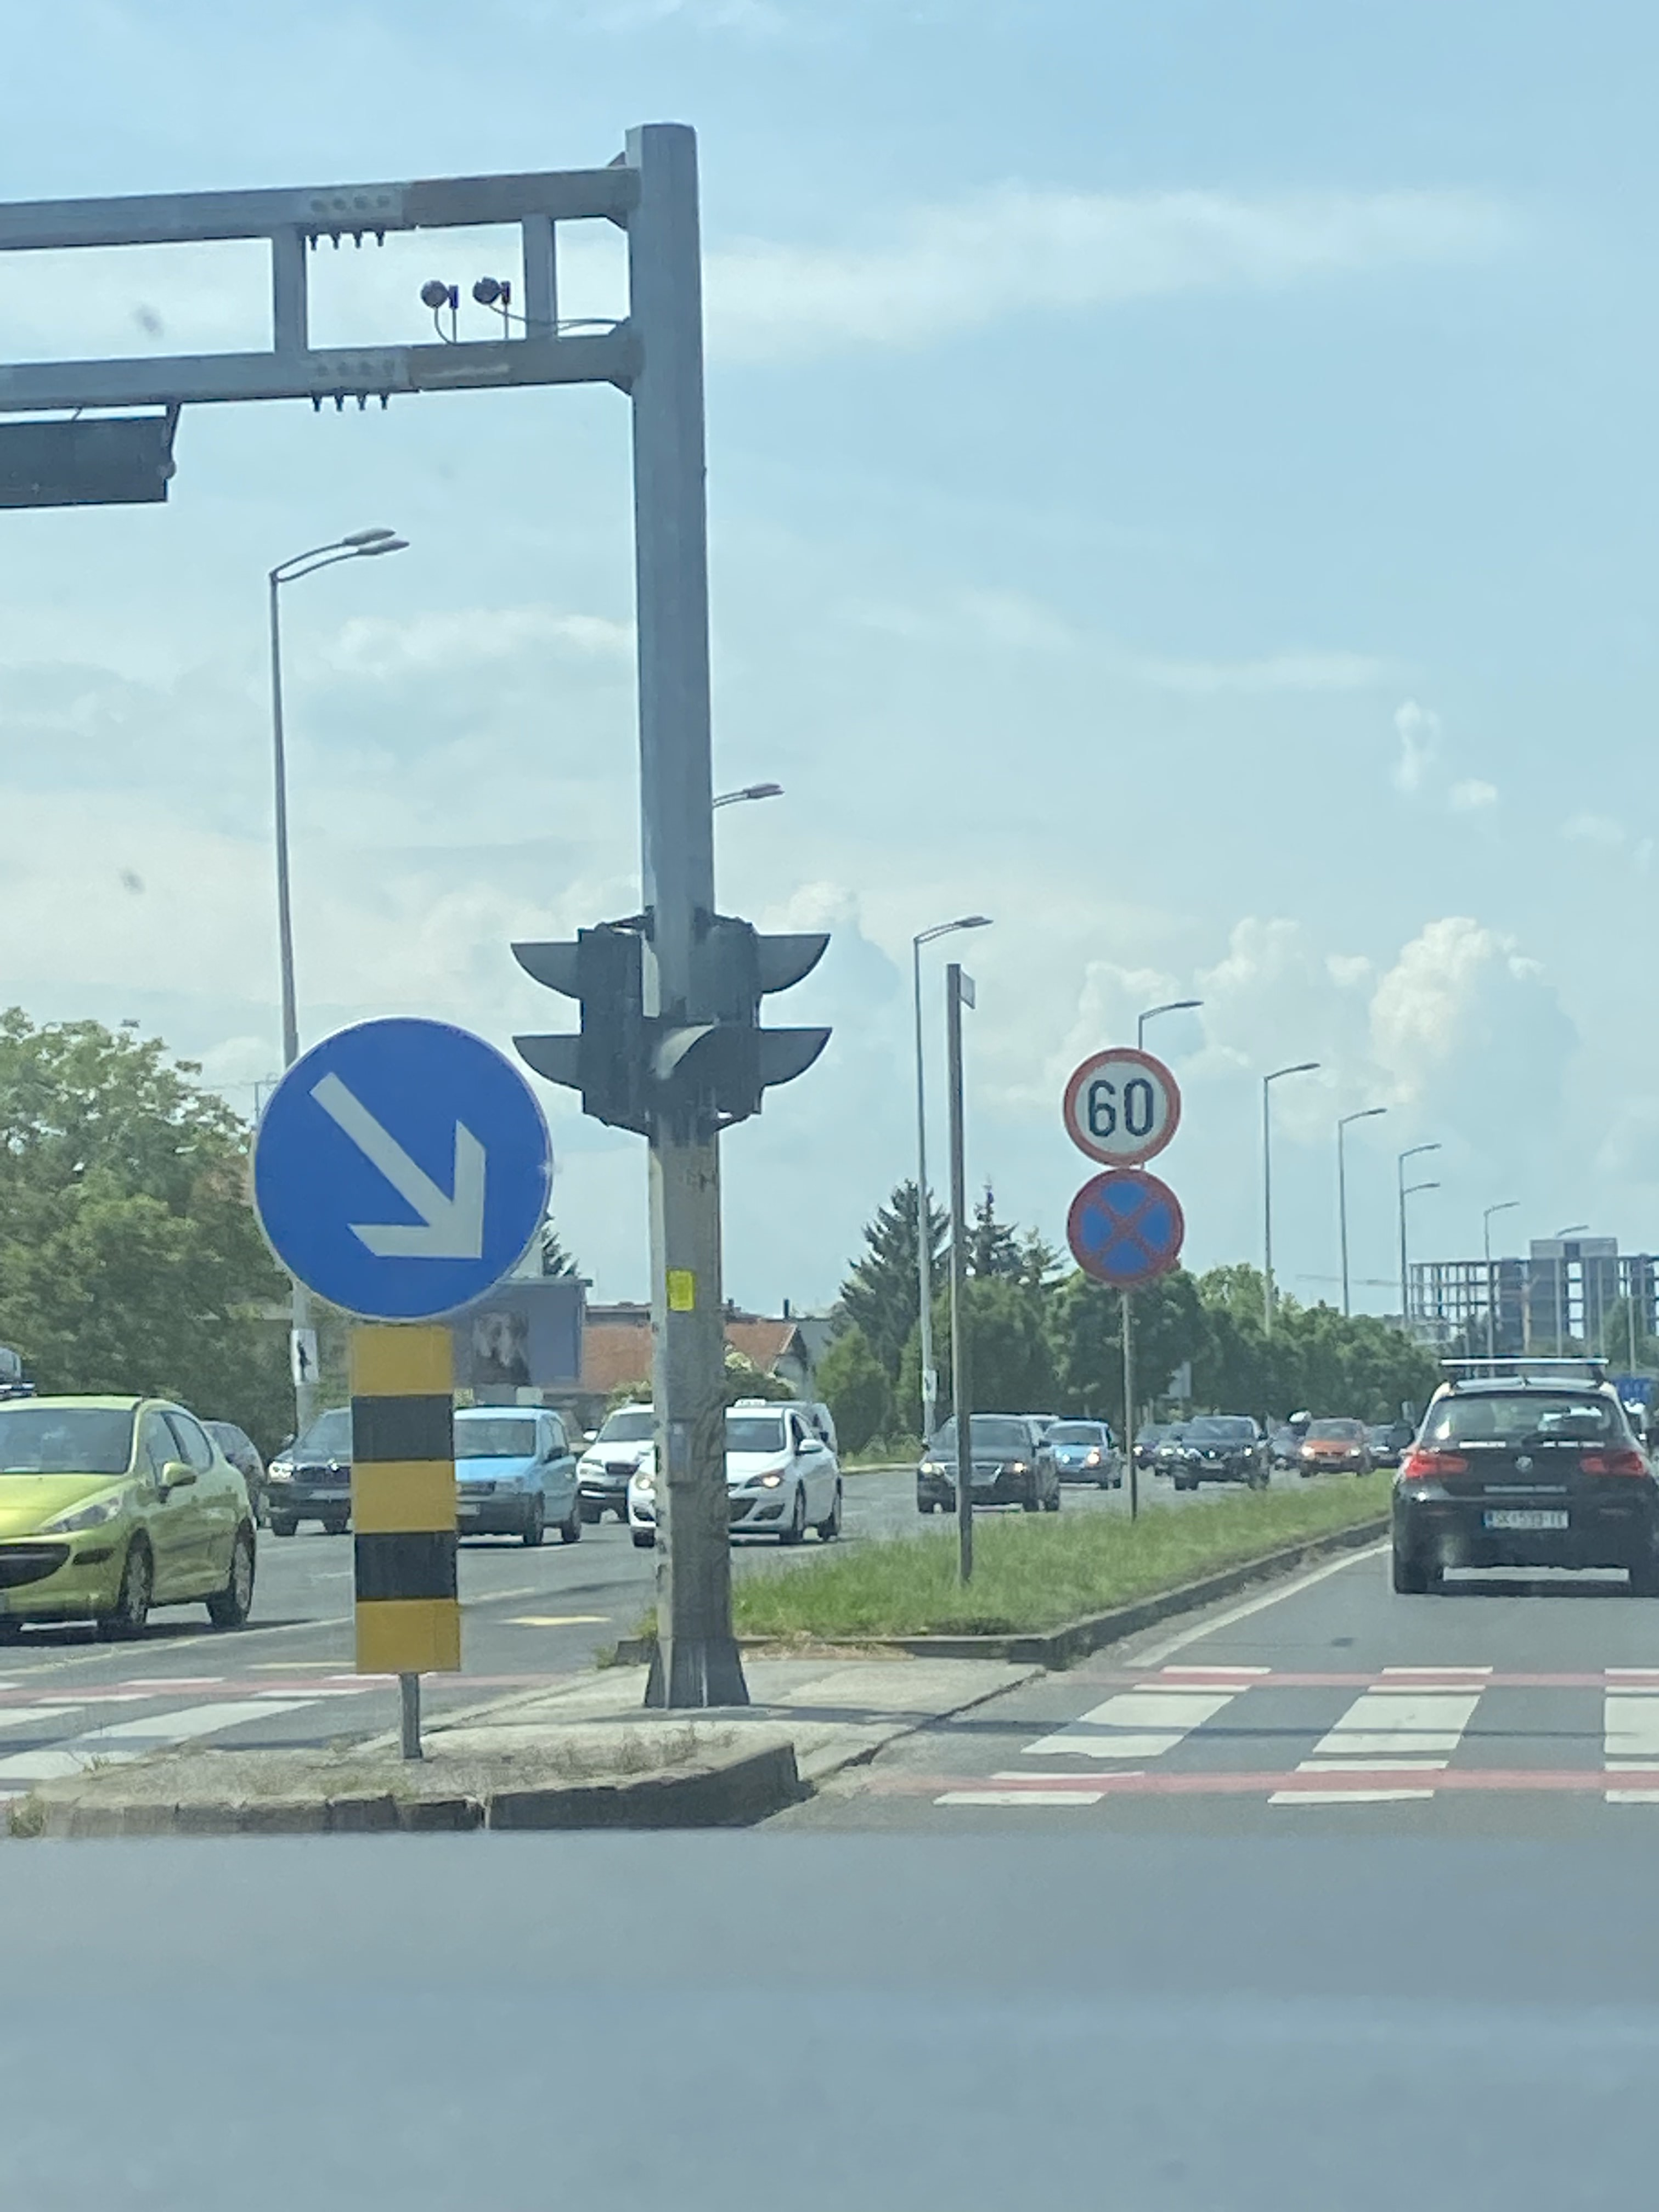Ograničenje brzine 60: (1063, 1047, 1182, 1165)
